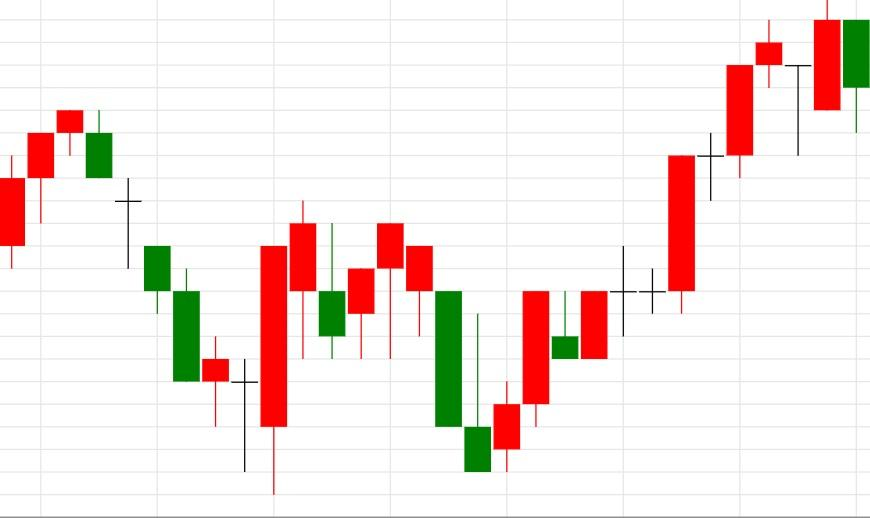hanging_man_fall: (318, 222, 405, 360)
inverse_hammer_rise: (377, 223, 491, 473)
